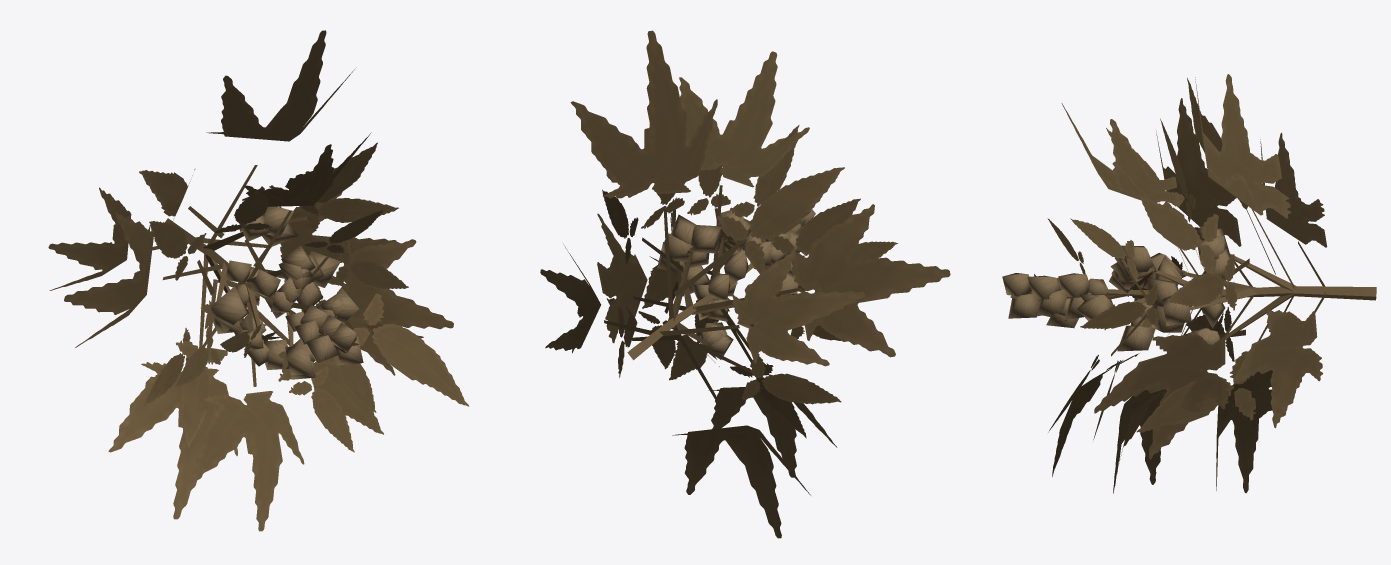
Rendered from p_male_auto_ripe_c3_cards.obj.
The picture shows the model from 3 angles, left to right: view 1: azimuth 30°, elevation 25°; view 2: azimuth 150°, elevation 25°; view 3: azimuth 270°, elevation 25°; orthographic projection. The views are drawn at different scales.
Size of the model in its own units: 1.33 by 1.58 by 0.988.
1 material, 1 textured.
